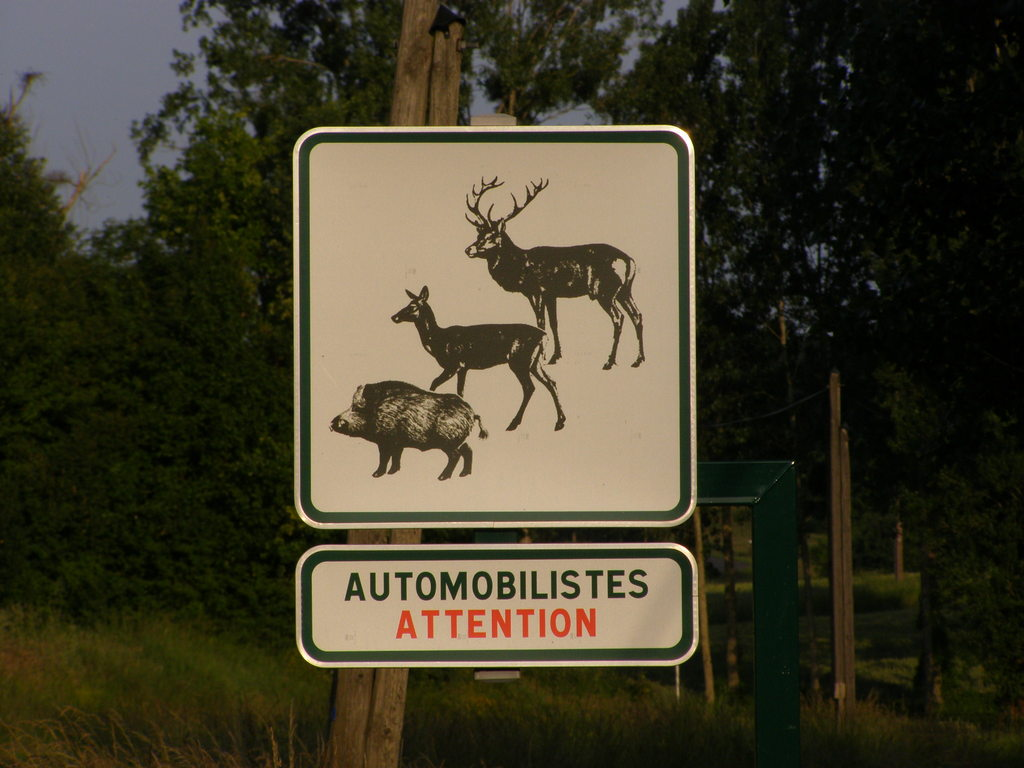animals_ahead: (294, 126, 702, 529)
